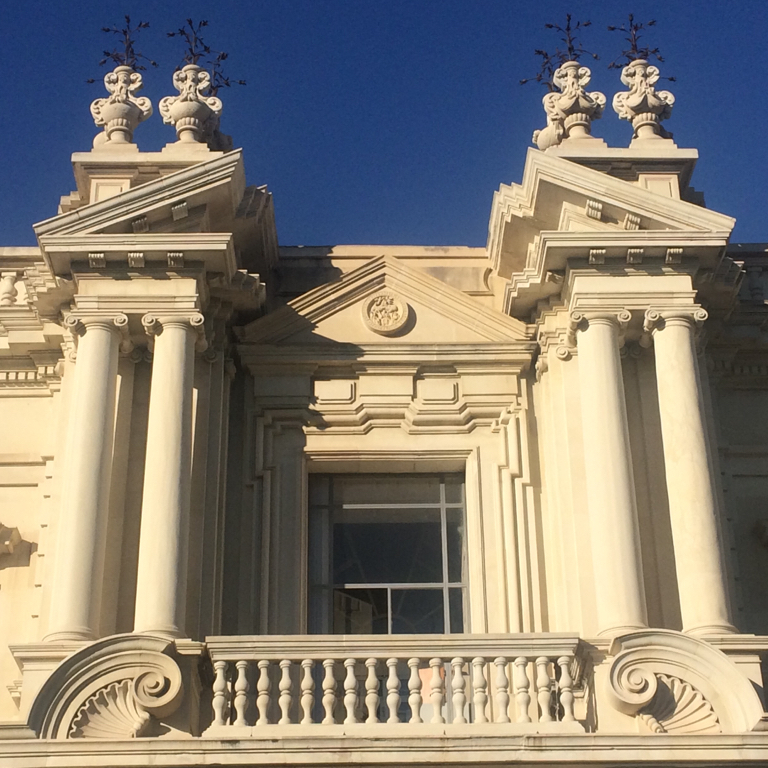fronton: (224, 246, 550, 363)
fronton-partido: (26, 622, 768, 761), (26, 140, 737, 253)
vano-adintelado: (286, 438, 482, 726)
